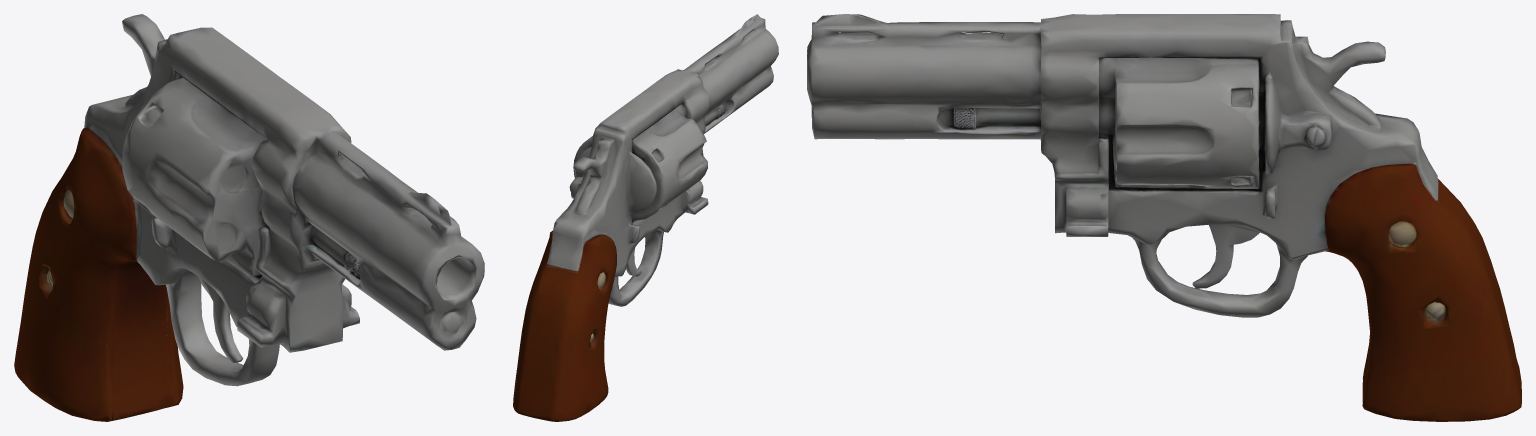
Rendered from revolver-byagent.fbx.
3 views of the same model, side by side, from view 1: azimuth 30°, elevation 25°; view 2: azimuth 150°, elevation 25°; view 3: azimuth 270°, elevation 25° (orthographic). The views are drawn at different scales.
Visible parts, largest first — view 1: tripo_node_7a1a1b06; view 2: tripo_node_7a1a1b06; view 3: tripo_node_7a1a1b06.
Part boxes in pixels (x1,y1,x2,y2): tripo_node_7a1a1b06: (14, 14, 484, 421); tripo_node_7a1a1b06: (513, 14, 778, 421); tripo_node_7a1a1b06: (807, 14, 1521, 421).
Bounding box in the file's own units: 0.2313 × 0.5941 × 0.9999.
Materials: 1 (1 with a texture image).
